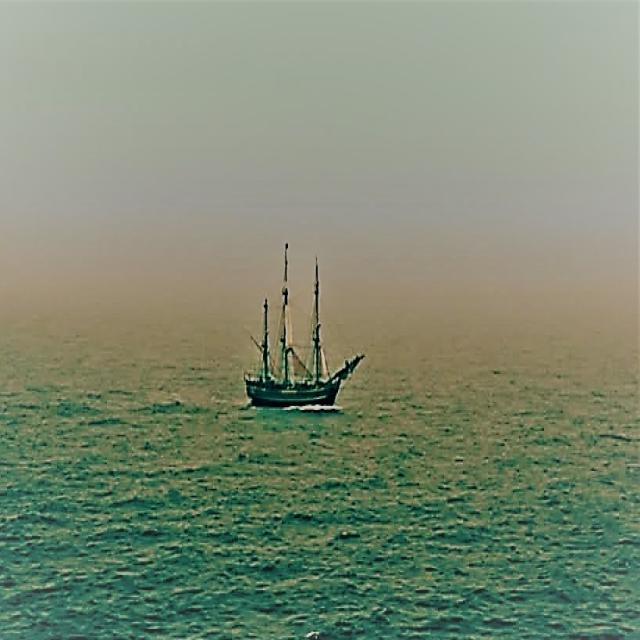fishing boat: (244, 238, 356, 410)
